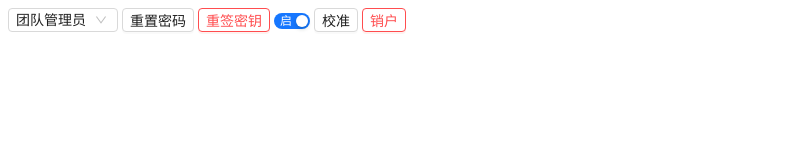
Test: UserActions › 末位团队管理员降级被 409 拒绝时给出后端文案
Expected: the element with test id "user-actions" is shown, x1=8 y1=8 x2=406 y2=32
Press the mouse on the dropdown labelled "团队管理员": (63, 20) x1=16 y1=9 x2=110 y2=31
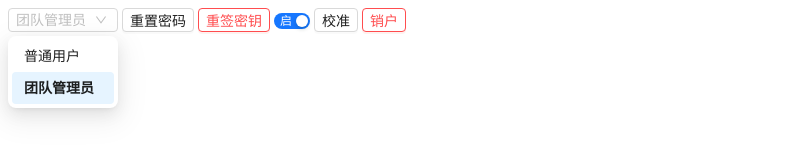
Click the text "普通用户": (52, 56) x1=24 y1=47 x2=80 y2=64
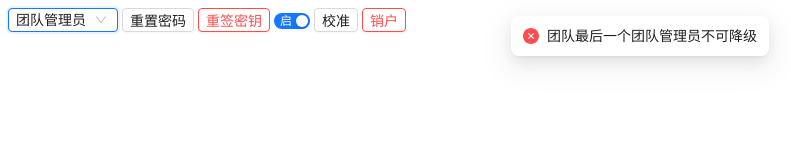
Now the text "团队最后一个团队管理员不可降级" is shown, box x1=547 y1=25 x2=757 y2=47
